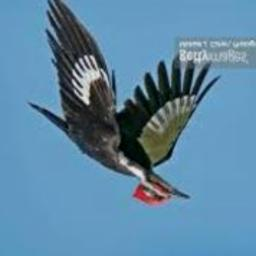Woodpecker: (27, 0, 221, 206)
